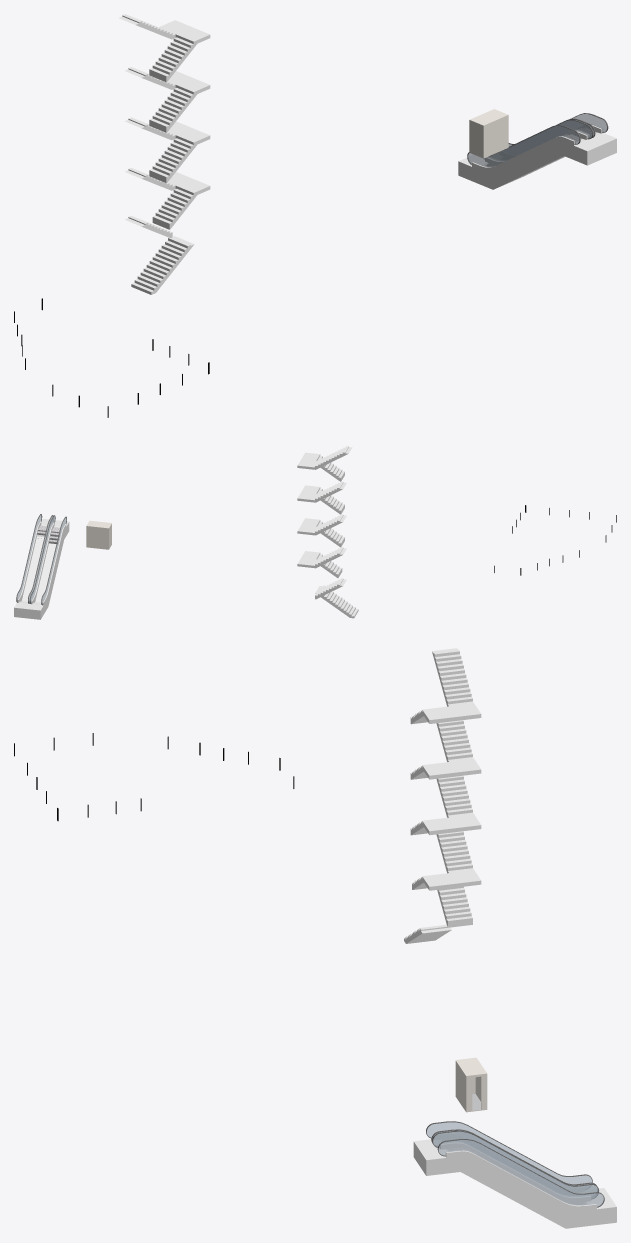
The model's file is 5ad5ff15-af09-4a2f-bed2-03c882b8c7f5.glb.
3 renders of one model, top to bottom at view 1: azimuth 30°, elevation 25°; view 2: azimuth 150°, elevation 25°; view 3: azimuth 270°, elevation 25°, orthographic. The views are drawn at different scales.
Visible parts, largest first — view 1: 163, 163_100, 1518, 1493, 164, 6464, 8397, 4339, 2992, 8398, 6465, 4340 (+2 smaller); view 2: 163, 163_100, 157, 1518, 157_101, 1493, 164, 158, 8399, 165, 159, 8398 (+10 smaller); view 3: 157, 158, 157_101, 164, 8399, 1518, 2996, 2994, 6466, 4341, 2993, 6465 (+2 smaller).
Part boxes in pixels (x1,y1,x2,y2): 163: (458,142,563,189); 163_100: (497,130,602,180); 1518: (469,109,508,158); 1493: (131,236,194,294); 164: (468,120,592,167); 6464: (149,87,197,132); 8397: (149,37,196,82); 4339: (149,138,196,182); 2992: (152,188,196,229); 8398: (159,20,210,44); 6465: (168,71,210,95); 4340: (168,121,210,145); 163: (27,536,63,619); 163_100: (35,520,69,599); 157: (14,535,45,618); 1518: (86,520,111,549); 157_101: (22,519,55,598); 1493: (315,585,358,618); 164: (30,516,66,604); 158: (17,514,52,602); 8399: (315,446,352,469); 165: (29,515,66,605); 159: (16,514,53,603); 8398: (297,452,320,469); 157: (461,1159,616,1228); 158: (433,1131,603,1206); 157_101: (420,1142,558,1205); 164: (427,1122,597,1193); 8399: (432,648,472,706); 1518: (455,1057,487,1112); 2996: (437,886,472,927); 2994: (436,831,472,873); 6466: (436,720,472,761); 4341: (436,775,472,817); 2993: (422,868,481,890); 6465: (422,757,481,779).
Size of the model in its own units: 52.27 by 21.42 by 34.63.
